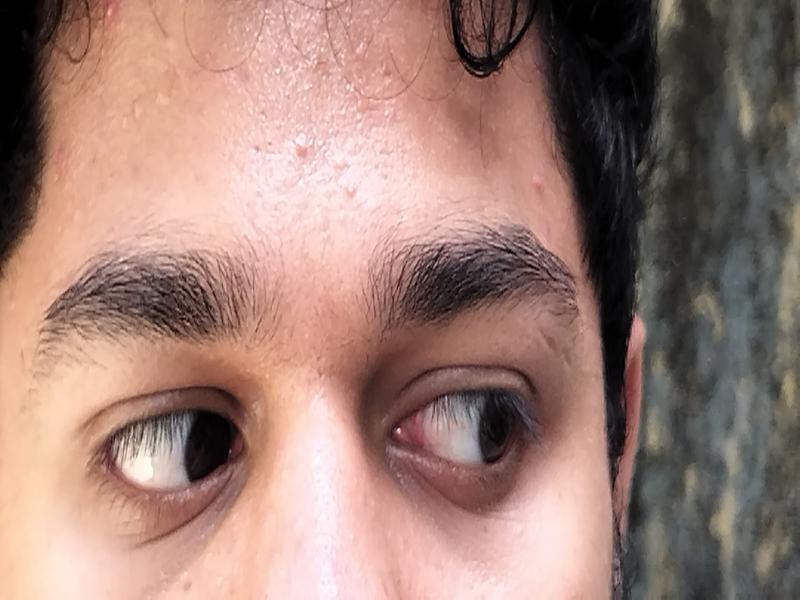EYE LEFT: (95, 408, 239, 490), (398, 387, 527, 466)
